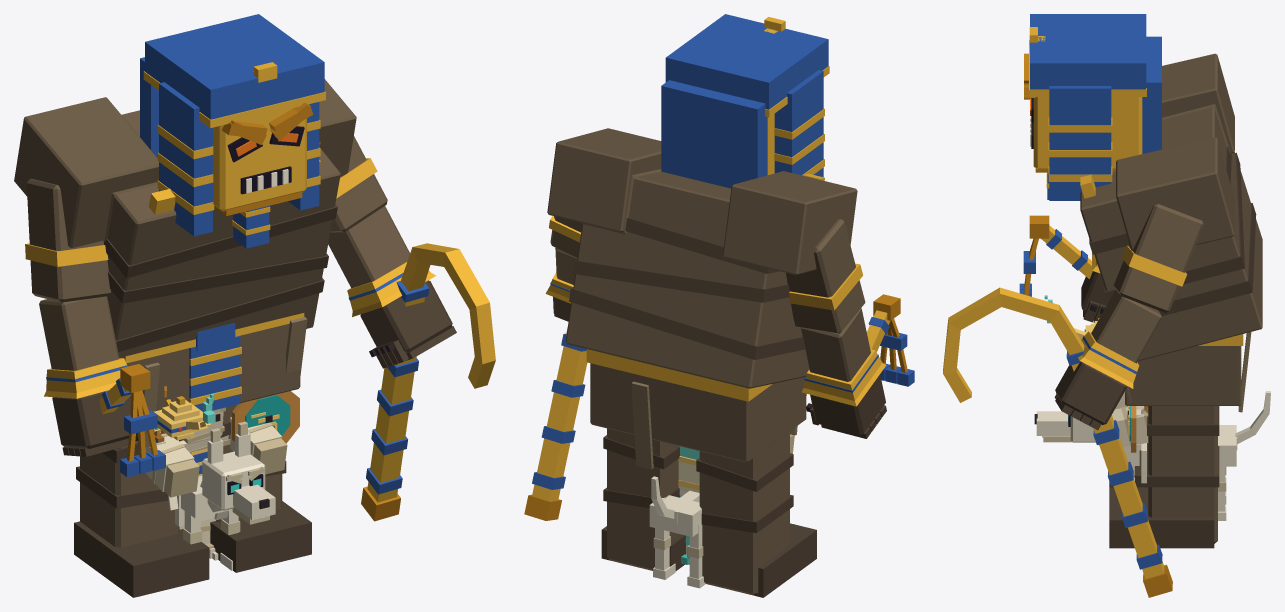
File: w4_enemies.fbx
3 renders of one model, left to right at view 1: azimuth 30°, elevation 25°; view 2: azimuth 150°, elevation 25°; view 3: azimuth 270°, elevation 25°, orthographic. The views are drawn at different scales.
Visible parts, largest first — view 1: SandPharaoh.Torso, SandPharaoh.Headdress, SandPharaoh.TorsoWraps, SandPharaoh.Crook, SandPharaoh.FootRight, SandPharaoh.RightLeg, SandPharaoh.RightArm, SandPharaoh.Head, SandPharaoh.RightLowerArm, SandPharaoh.FootLeft, SandPharaoh.LeftLowerArm, SandPharaoh.LeftFist (+34 smaller); view 2: SandPharaoh.Torso, SandPharaoh.Headdress, SandPharaoh.RightLeg, SandPharaoh.TorsoWraps, SandPharaoh.LeftLeg, SandPharaoh.RightArm, SandPharaoh.Crook, SandPharaoh.RightLowerArm, SandPharaoh.Belt, SandPharaoh.WrapsRight, SandPharaoh.FootRight, SandPharaoh.RightFist (+15 smaller); view 3: SandPharaoh.Torso, SandPharaoh.Headdress, SandPharaoh.Crook, SandPharaoh.LeftLeg, SandPharaoh.LeftArm, SandPharaoh.TorsoWraps, SandPharaoh.Head, SandPharaoh.FootLeft, SandPharaoh.LeftLowerArm, SandPharaoh.LeftFist, SandPharaoh.HeaddressGold, SandPharaoh.WrapsLeft (+13 smaller).
Boxes of the visible parts, bbox=[...] form: SandPharaoh.Torso: bbox=[14, 79, 356, 410]; SandPharaoh.Headdress: bbox=[140, 14, 324, 236]; SandPharaoh.TorsoWraps: bbox=[103, 204, 337, 352]; SandPharaoh.Crook: bbox=[367, 243, 495, 502]; SandPharaoh.FootRight: bbox=[74, 521, 209, 597]; SandPharaoh.RightLeg: bbox=[80, 430, 179, 547]; SandPharaoh.RightArm: bbox=[26, 179, 111, 302]; SandPharaoh.Head: bbox=[213, 108, 306, 211]; SandPharaoh.RightLowerArm: bbox=[39, 296, 119, 370]; SandPharaoh.FootLeft: bbox=[210, 501, 311, 572]; SandPharaoh.LeftLowerArm: bbox=[328, 206, 409, 288]; SandPharaoh.LeftFist: bbox=[360, 280, 452, 353]; SandPharaoh.Torso: bbox=[547, 128, 857, 462]; SandPharaoh.Headdress: bbox=[661, 14, 828, 188]; SandPharaoh.RightLeg: bbox=[699, 431, 789, 595]; SandPharaoh.TorsoWraps: bbox=[569, 218, 804, 359]; SandPharaoh.LeftLeg: bbox=[607, 428, 679, 570]; SandPharaoh.RightArm: bbox=[786, 219, 865, 333]; SandPharaoh.Crook: bbox=[532, 326, 587, 500]; SandPharaoh.RightLowerArm: bbox=[800, 308, 870, 381]; SandPharaoh.Belt: bbox=[586, 349, 772, 401]; SandPharaoh.WrapsRight: bbox=[696, 453, 793, 533]; SandPharaoh.FootRight: bbox=[755, 523, 816, 597]; SandPharaoh.RightFist: bbox=[810, 374, 885, 434]; SandPharaoh.Torso: bbox=[1080, 53, 1262, 405]; SandPharaoh.Headdress: bbox=[1030, 14, 1161, 200]; SandPharaoh.Crook: bbox=[943, 287, 1164, 578]; SandPharaoh.LeftLeg: bbox=[1148, 406, 1217, 543]; SandPharaoh.LeftArm: bbox=[1113, 204, 1203, 312]; SandPharaoh.TorsoWraps: bbox=[1089, 147, 1256, 316]; SandPharaoh.Head: bbox=[1033, 97, 1142, 169]; SandPharaoh.FootLeft: bbox=[1109, 487, 1214, 548]; SandPharaoh.LeftLowerArm: bbox=[1091, 290, 1161, 363]; SandPharaoh.LeftFist: bbox=[1055, 361, 1127, 424]; SandPharaoh.HeaddressGold: bbox=[1029, 40, 1146, 181]; SandPharaoh.WrapsLeft: bbox=[1147, 406, 1219, 487].
Bounding box in the file's own units: 12.42 × 17.83 × 10.99.
